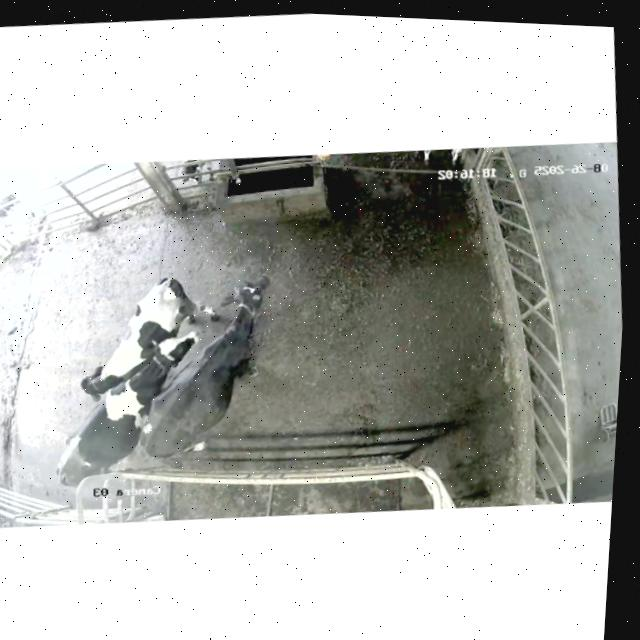stand: (140, 273, 270, 456), (57, 330, 198, 485), (82, 276, 219, 400)
